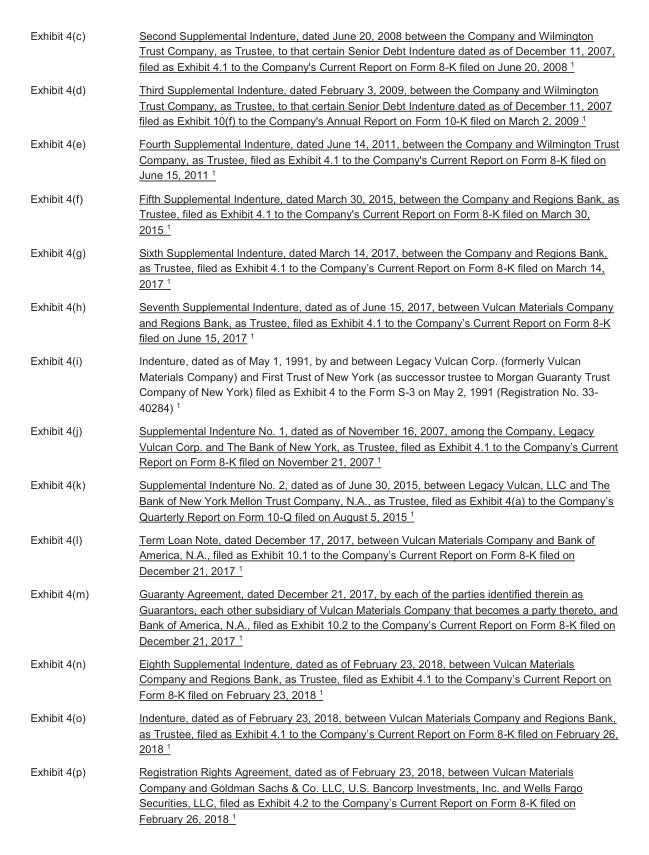table: (29, 28, 618, 824)
table column: (113, 28, 618, 824), (29, 28, 113, 824)
table row: (29, 581, 618, 651), (29, 349, 618, 418), (29, 759, 618, 824), (29, 131, 618, 186), (29, 294, 618, 349), (29, 418, 618, 473), (29, 77, 618, 131), (29, 186, 618, 240), (29, 240, 618, 294), (29, 473, 618, 527), (29, 527, 618, 581), (29, 651, 618, 705), (29, 705, 618, 759), (29, 28, 618, 77)
